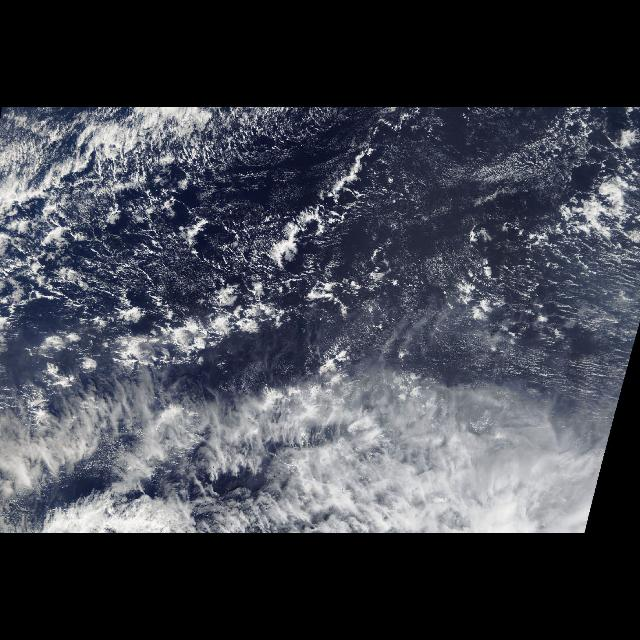Gravel: (2, 108, 374, 376), (388, 118, 622, 360)
Sugar: (392, 110, 640, 404)
